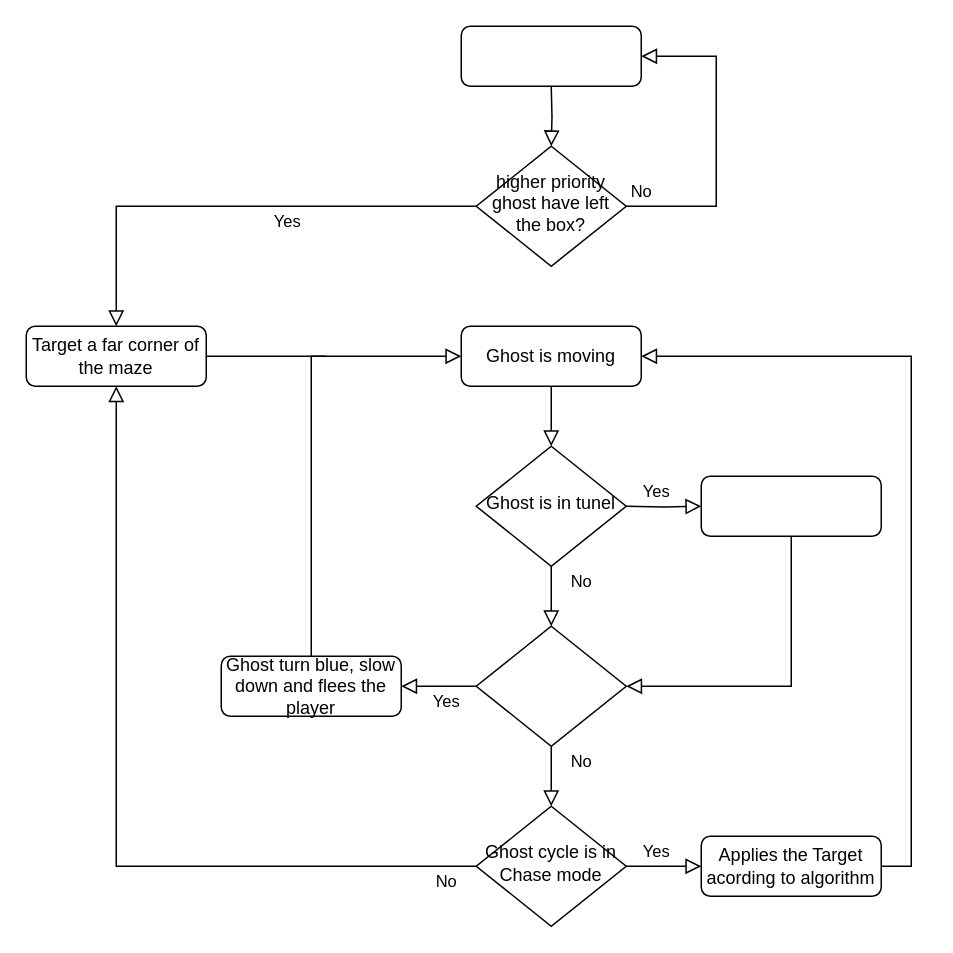
This 953x953 diagram has some shape labels left out. The centre of each missing label's shape, as x and y in pixels:
"Game is in fright mode" goes at (x=550, y=685).
"Ghost is in box" goes at (x=550, y=55).
"Slow down" goes at (x=790, y=505).
